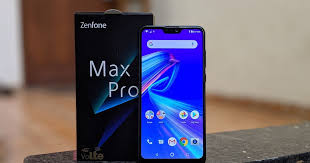asus: (136, 21, 209, 163)
